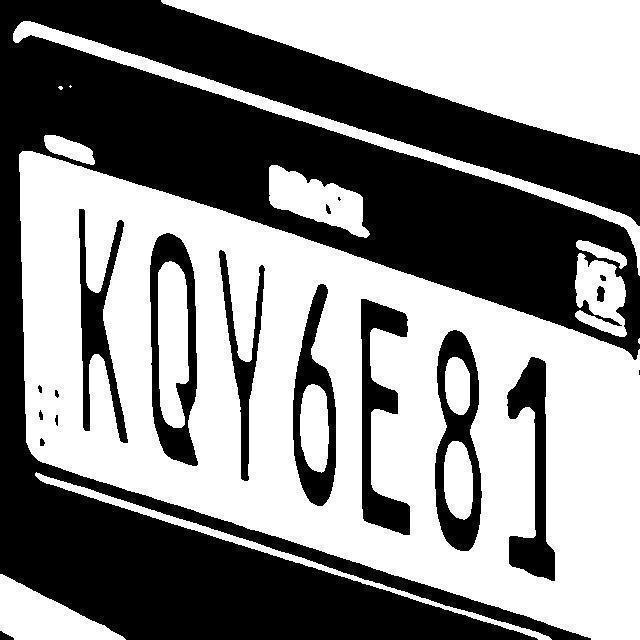1: (502, 345, 564, 585)
6: (286, 265, 344, 511)
8: (430, 318, 493, 557)
e: (353, 287, 418, 541)
k: (71, 192, 136, 452)
q: (142, 223, 207, 474)
y: (215, 235, 279, 491)
